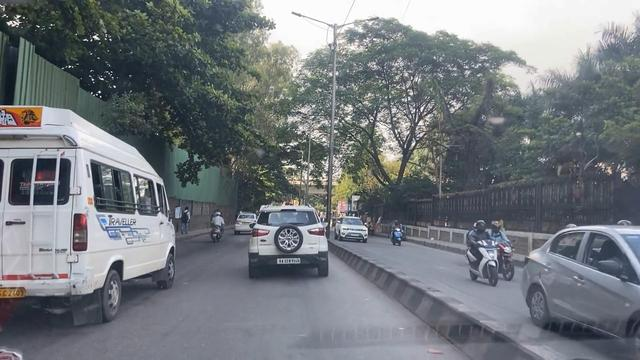HMV: (3, 107, 174, 323)
LMV: (255, 203, 326, 285)
